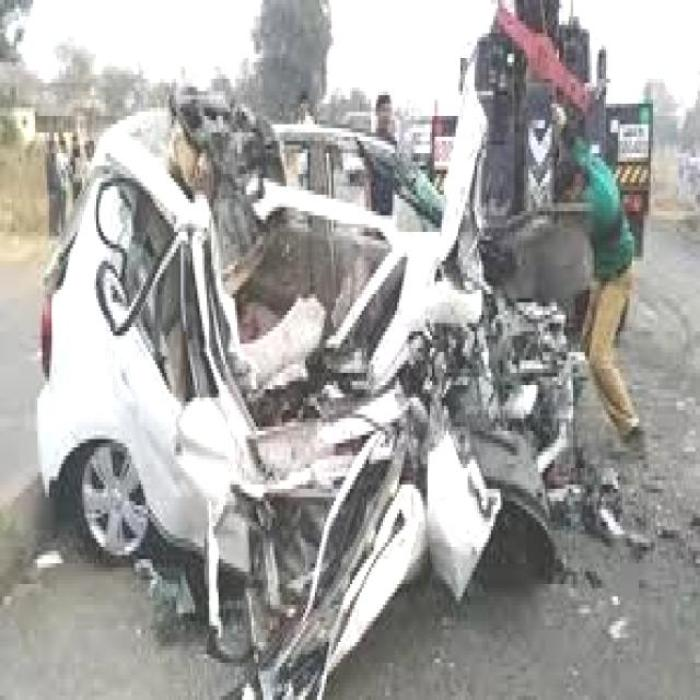Accident: (22, 54, 650, 700)
